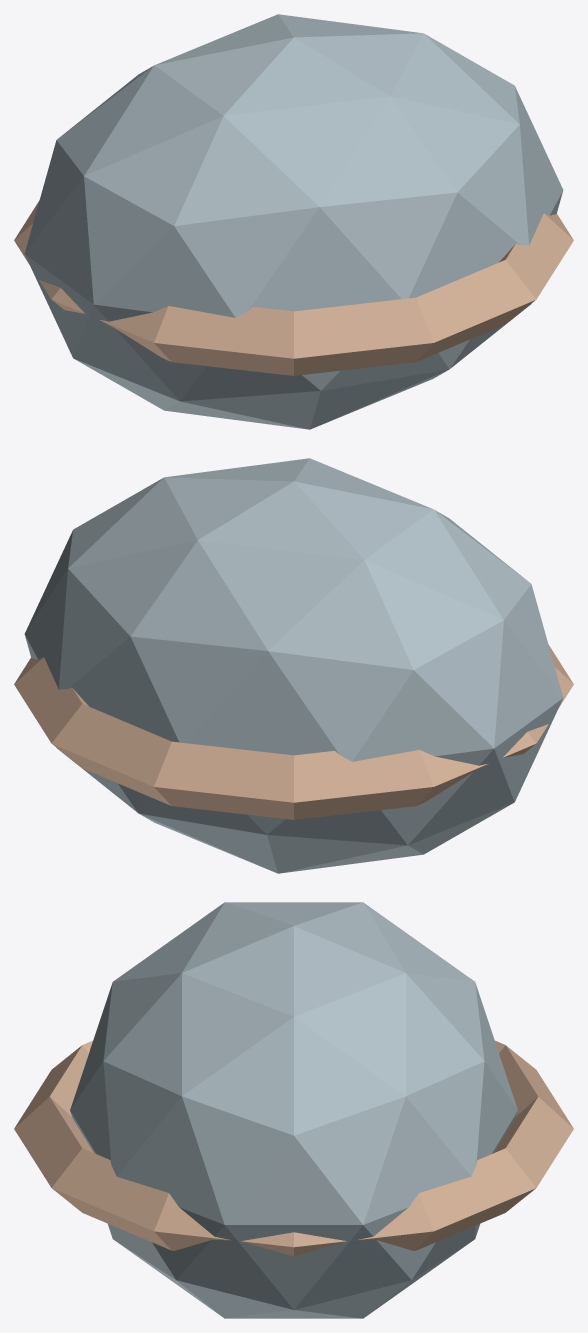
The model's file is cargo_armor.fbx.
3 renders of one model, top to bottom at view 1: azimuth 30°, elevation 25°; view 2: azimuth 150°, elevation 25°; view 3: azimuth 270°, elevation 25°, orthographic.
Parts seen in each view (by area): view 1: cargo_armor_mesh; view 2: cargo_armor_mesh; view 3: cargo_armor_mesh.
Boxes of the visible parts, <box> form: cargo_armor_mesh: <box>14,14,573,429</box>; cargo_armor_mesh: <box>14,458,573,873</box>; cargo_armor_mesh: <box>14,902,573,1318</box>.
Bounding box in the file's own units: 0.55 × 0.4 × 0.55.
